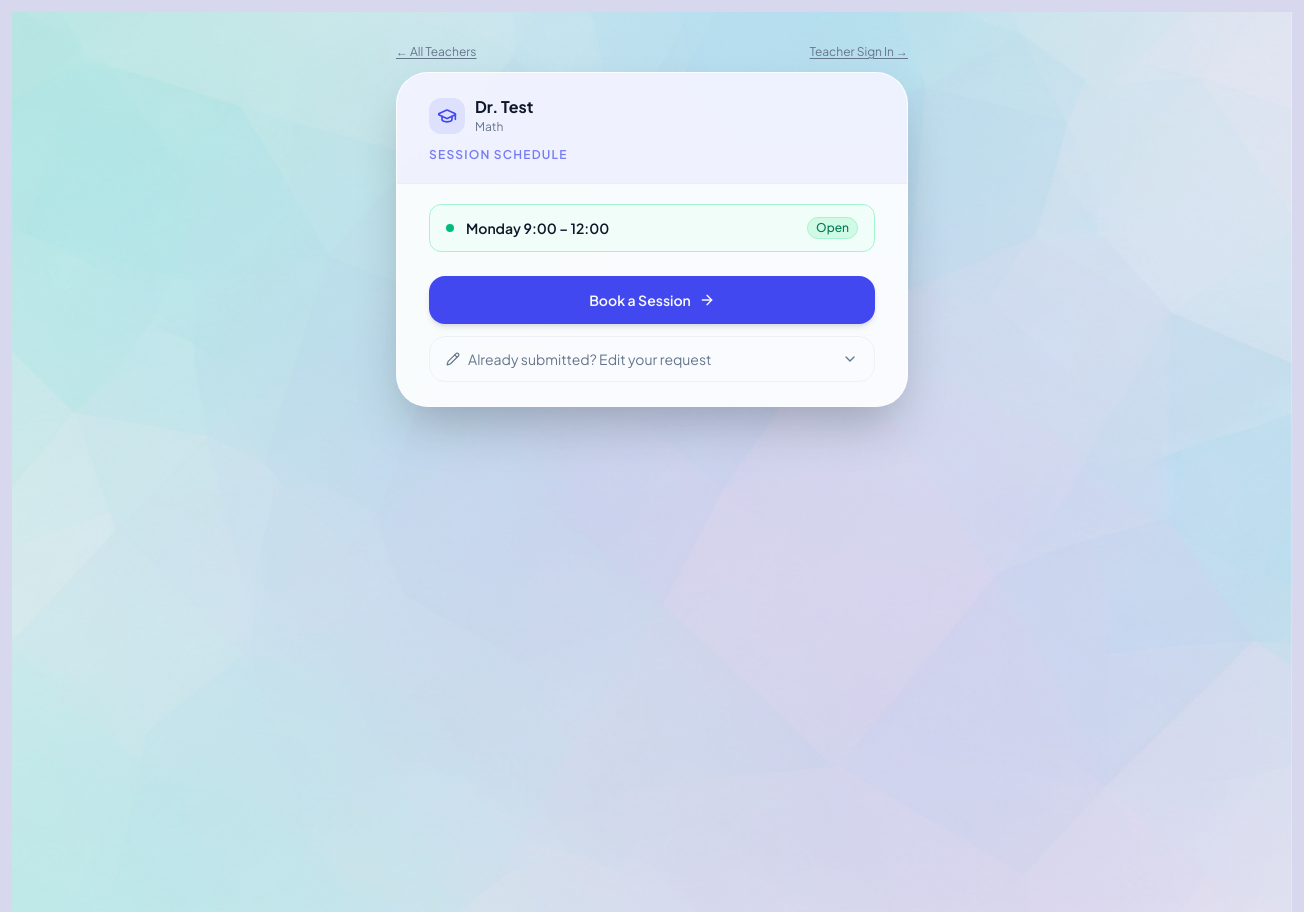
Scenario: Slot picker (page 0) › Next is disabled until a slot is selected
Click the button "Book a Session": (652,300) [429,276,875,324]
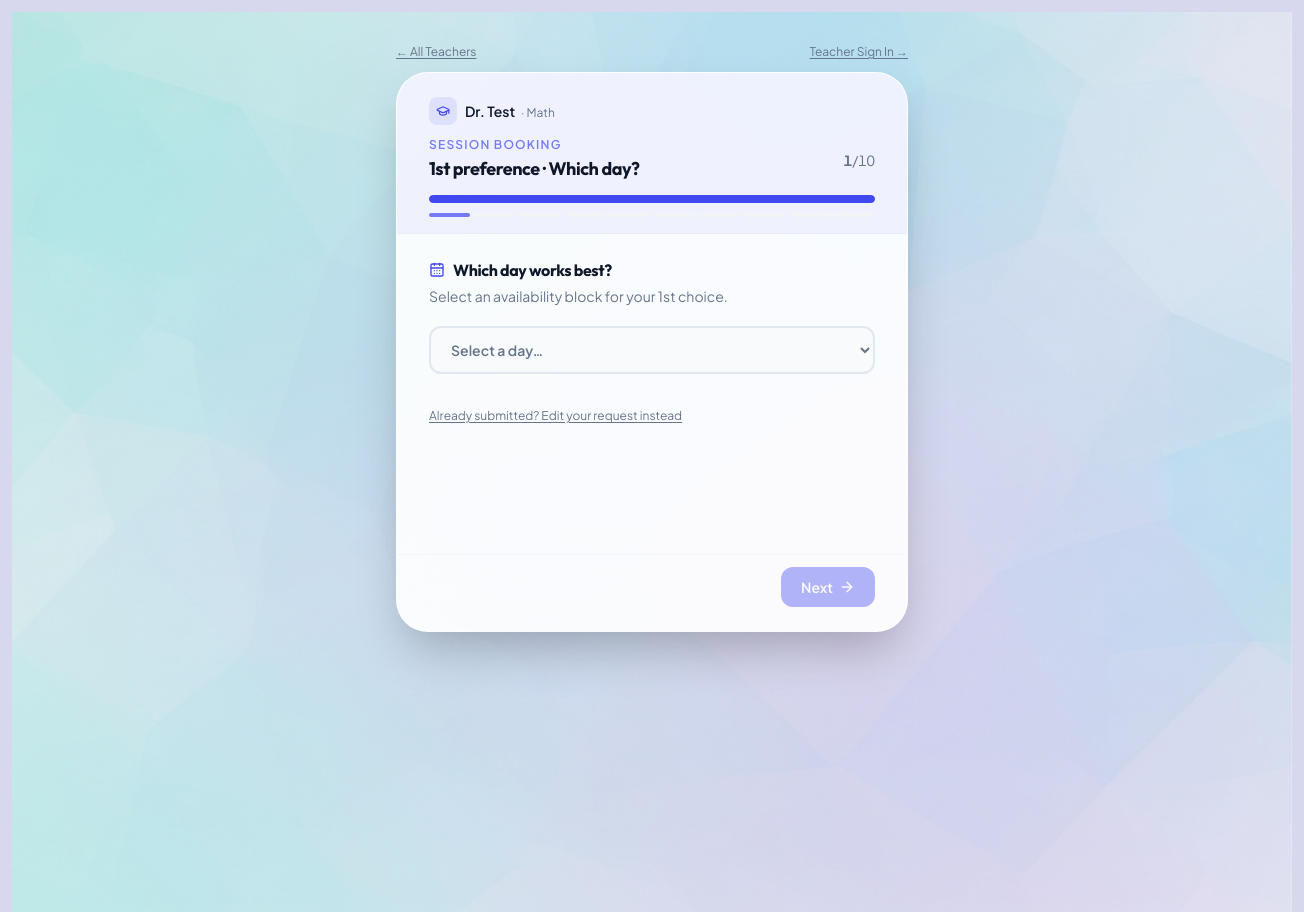
Result: the button "Next" is disabled at [781,567,875,607]
